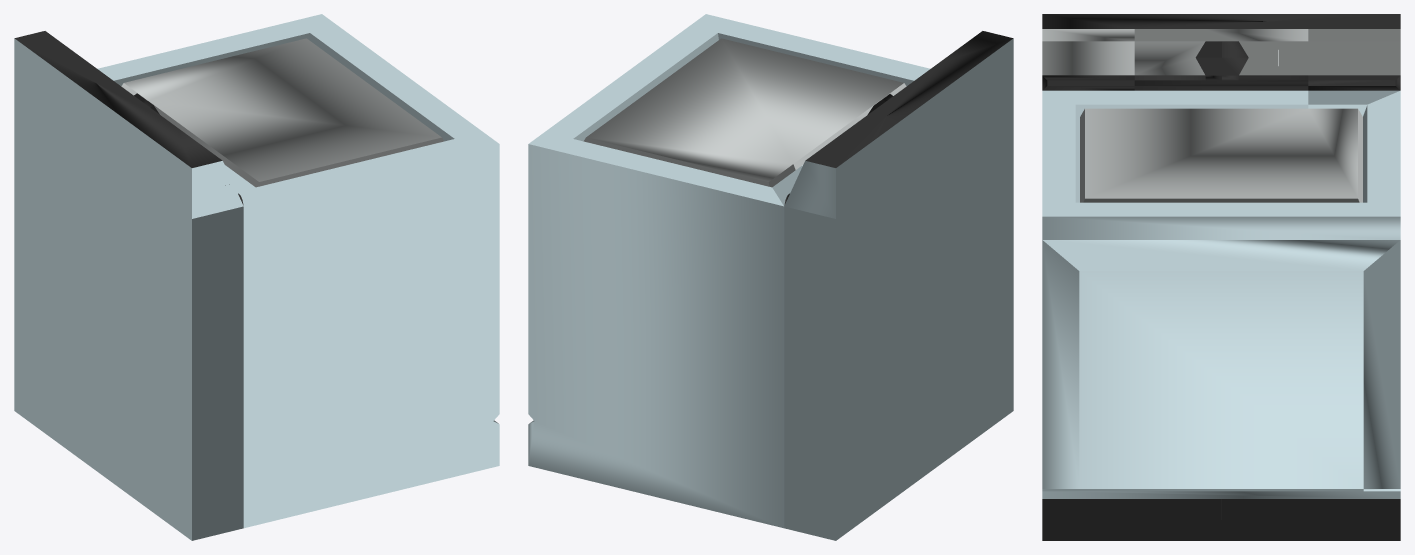
The model's file is washer_v01.fbx.
The picture shows the model from 3 angles, left to right: view 1: azimuth 30°, elevation 25°; view 2: azimuth 150°, elevation 25°; view 3: azimuth 270°, elevation 25°; orthographic projection.
Parts seen in each view (by area): view 1: Stove_1; view 2: Stove_1; view 3: Stove_1.
Part boxes in pixels (x1,y1,x2,y2): Stove_1: (14,14,499,540); Stove_1: (528,14,1013,540); Stove_1: (1042,14,1400,540).
Size of the model in its own units: 110 by 128 by 110.
